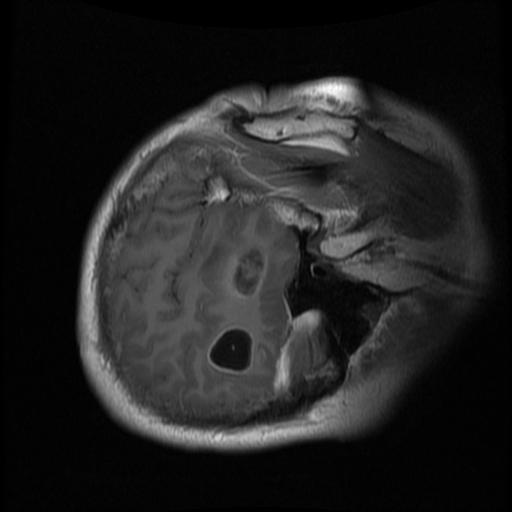glioma: (204, 244, 265, 376)
